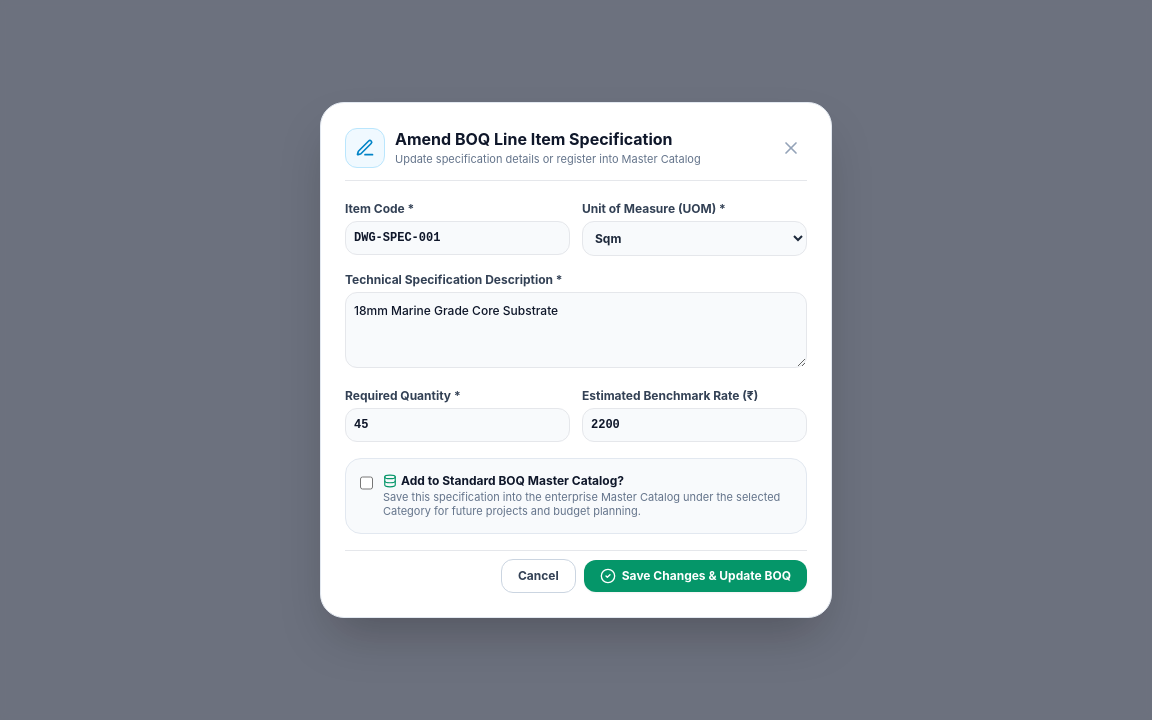
Test: AmendBOQModal Component › validates required fields and displays error summary
Clear the text box showing "18mm Marine Grade Core Substrate" at (576, 330), box [345,292,807,368]
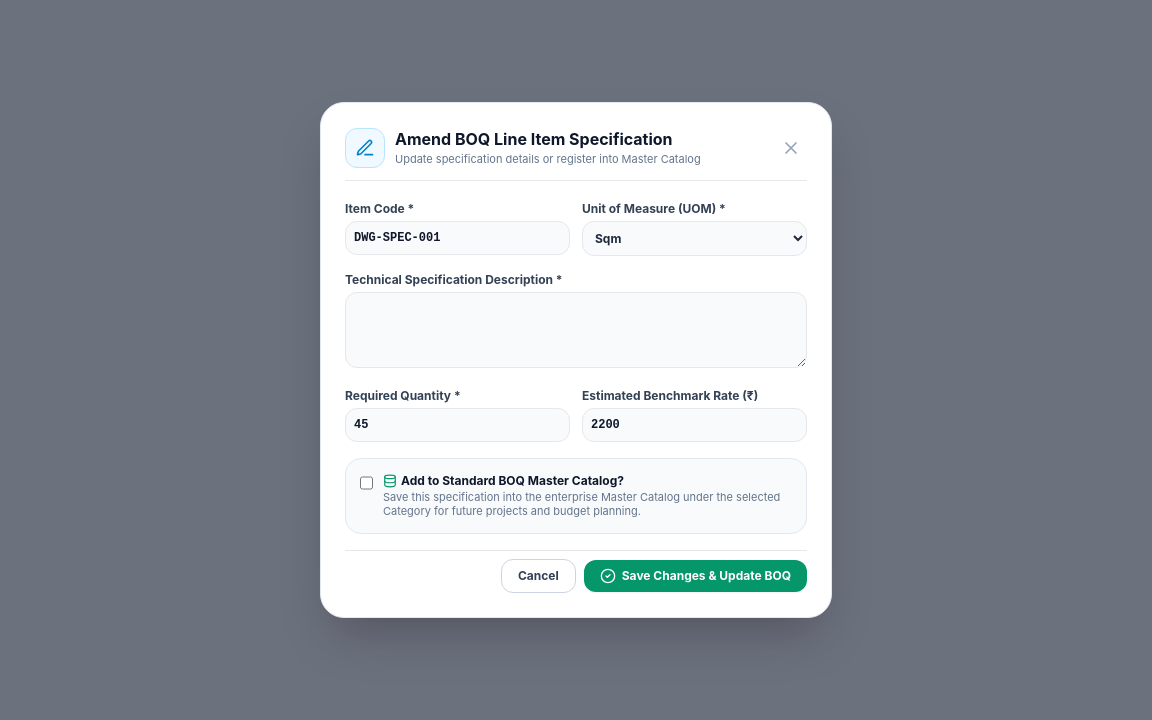
Click the button "Save Changes & Update BOQ" at (695, 576), box [584,560,807,592]
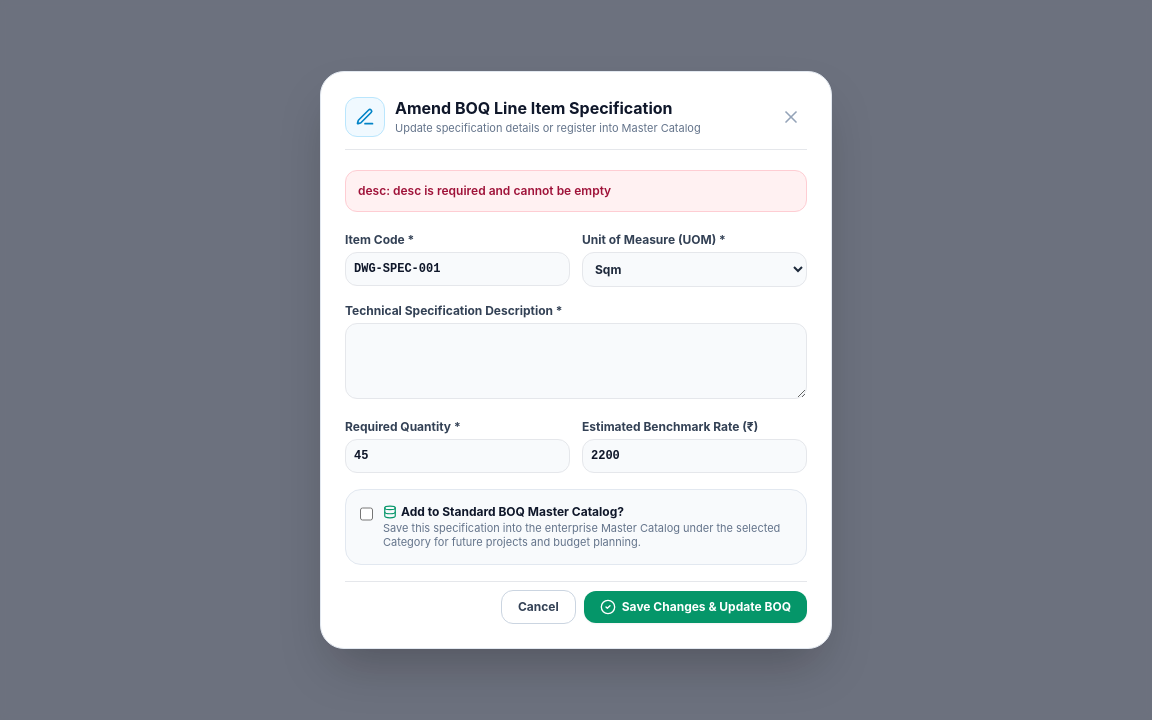
Result: the text "desc: desc is required and cannot be empty" is shown at [345,170,807,212]
